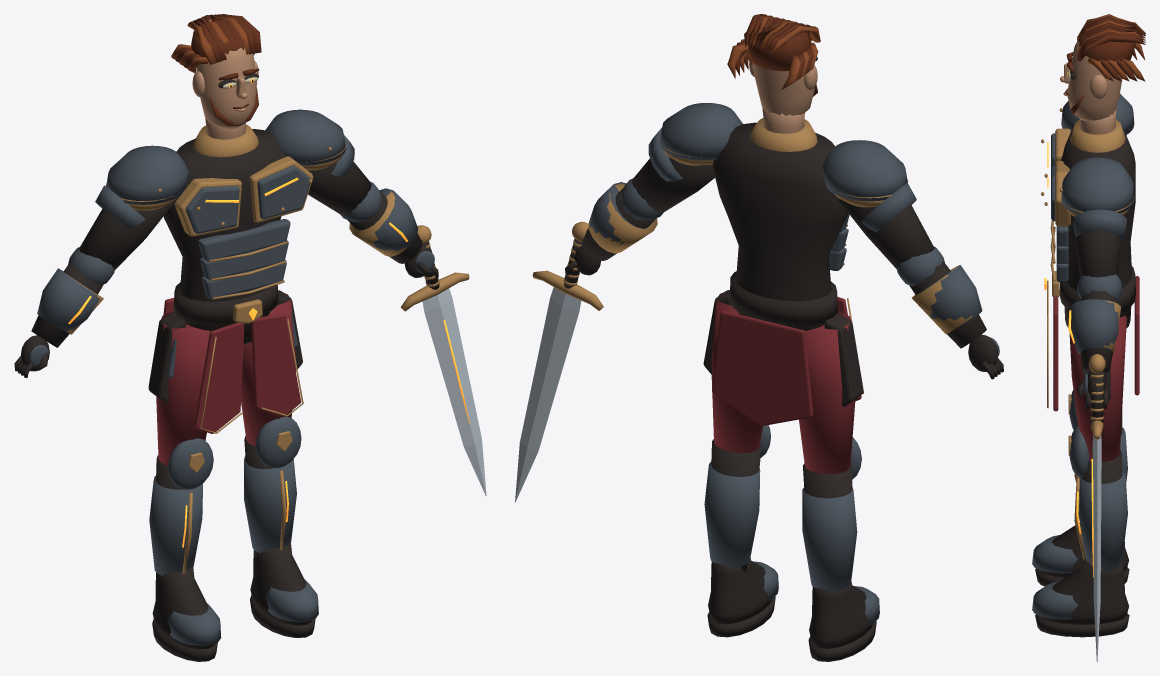
File: Ember.fbx
The picture shows the model from 3 angles, left to right: view 1: azimuth 30°, elevation 25°; view 2: azimuth 150°, elevation 25°; view 3: azimuth 270°, elevation 25°; orthographic projection. The views are drawn at different scales.
Parts seen in each view (by area): view 1: Ember_Steel, Ember_Leather, Ember_Cloth, Ember_Bronze, Ember_Sword, Ember_Skin, Ember_Hair, Ember_Fire; view 2: Ember_Leather, Ember_Steel, Ember_Cloth, Ember_Sword, Ember_Bronze, Ember_Hair, Ember_Skin; view 3: Ember_Steel, Ember_Leather, Ember_Cloth, Ember_Bronze, Ember_Hair, Ember_Skin, Ember_Sword, Ember_Fire.
Part boxes in pixels (bbox=[...]): Ember_Steel: bbox=[29, 109, 434, 646]; Ember_Leather: bbox=[14, 129, 438, 661]; Ember_Cloth: bbox=[156, 293, 301, 465]; Ember_Bronze: bbox=[65, 124, 406, 574]; Ember_Sword: bbox=[400, 225, 486, 496]; Ember_Skin: bbox=[192, 47, 258, 139]; Ember_Hair: bbox=[171, 14, 261, 126]; Ember_Fire: bbox=[68, 78, 407, 547]; Ember_Leather: bbox=[565, 122, 1003, 661]; Ember_Steel: bbox=[588, 103, 999, 625]; Ember_Cloth: bbox=[711, 292, 861, 473]; Ember_Sword: bbox=[515, 221, 603, 502]; Ember_Bronze: bbox=[588, 118, 972, 393]; Ember_Hair: bbox=[727, 14, 820, 96]; Ember_Skin: bbox=[749, 61, 817, 133]; Ember_Steel: bbox=[1032, 93, 1134, 619]; Ember_Leather: bbox=[1035, 128, 1135, 637]; Ember_Cloth: bbox=[1053, 276, 1139, 461]; Ember_Bronze: bbox=[1041, 108, 1134, 559]; Ember_Hair: bbox=[1065, 14, 1145, 114]; Ember_Skin: bbox=[1060, 38, 1122, 134]; Ember_Sword: bbox=[1088, 354, 1105, 661]; Ember_Fire: bbox=[1044, 62, 1081, 533].
Size of the model in its own units: 1.51 by 1.86 by 0.3304.
